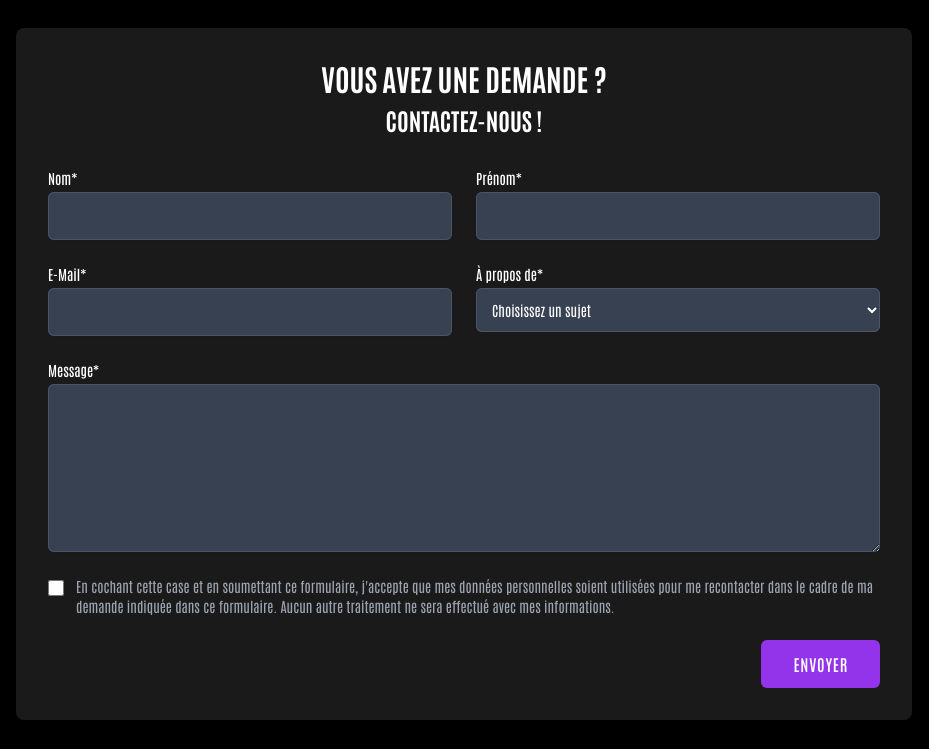
Scenario: ContactView — form validation › shows a firstName error when first name is missing
Type "Dupont" into the field with id "lastName" at [250, 216], box top-left (48, 192), bottom-right (452, 240)
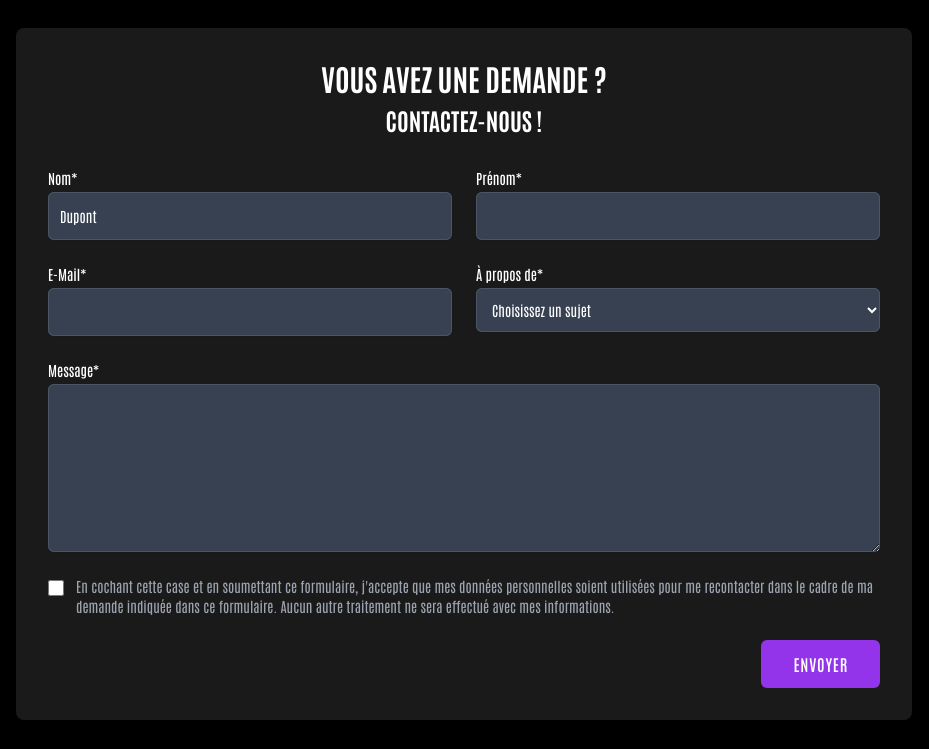
Type "marie@example.com" into the field with id "email" at [250, 312], box top-left (48, 288), bottom-right (452, 336)
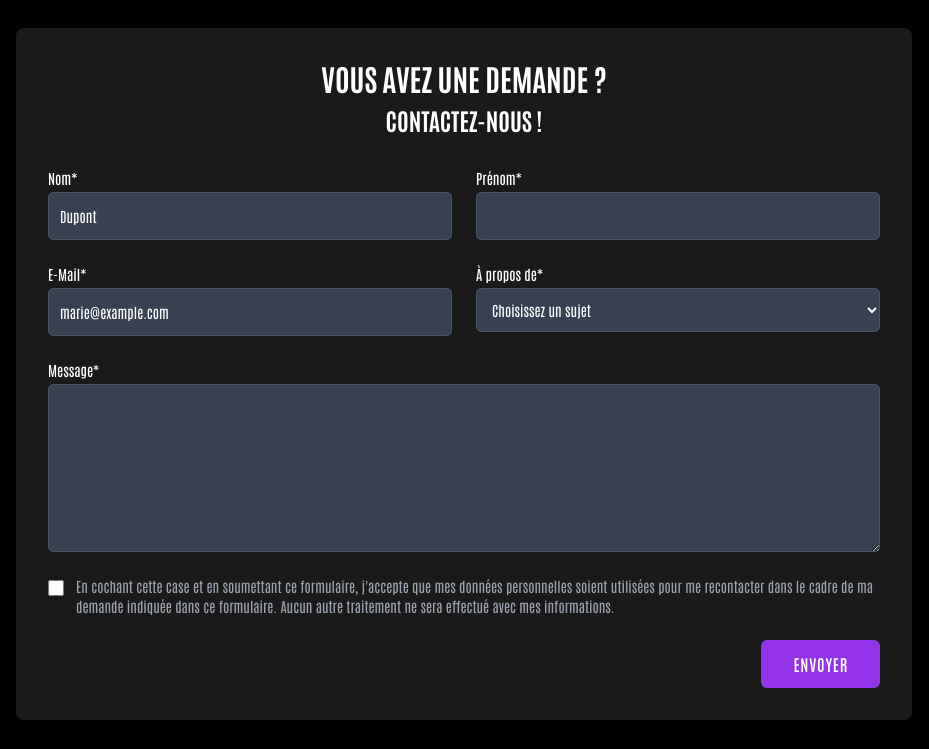
Select "Autre" in the dropdown with id "about" at [678, 310], box top-left (476, 288), bottom-right (880, 332)
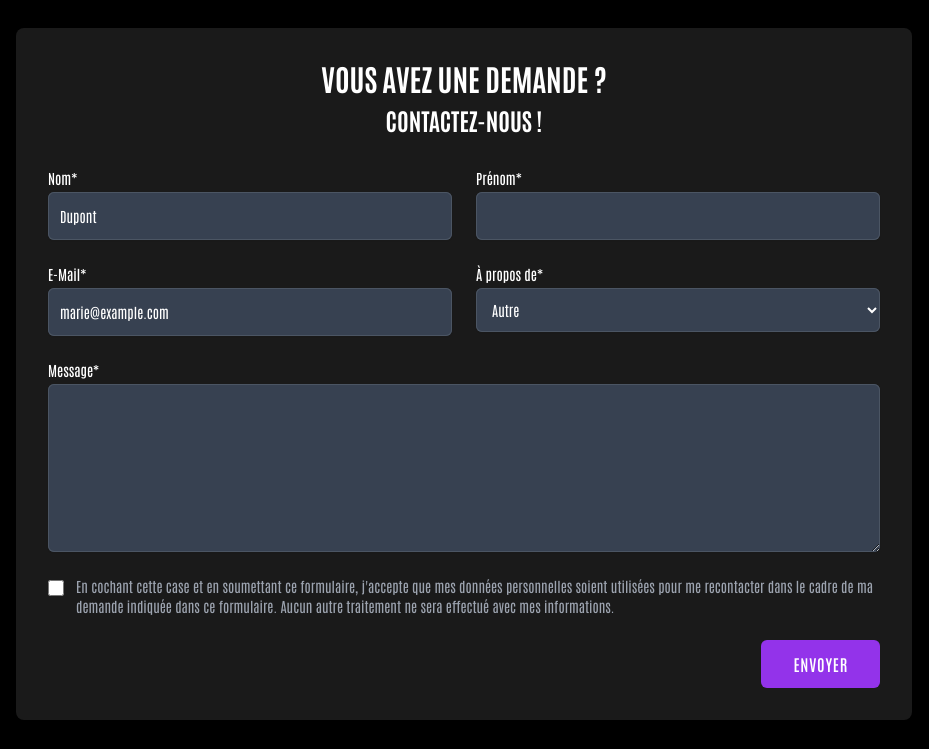
Type "Bonjour" into the text box with id "message" at [464, 468], box top-left (48, 384), bottom-right (880, 552)
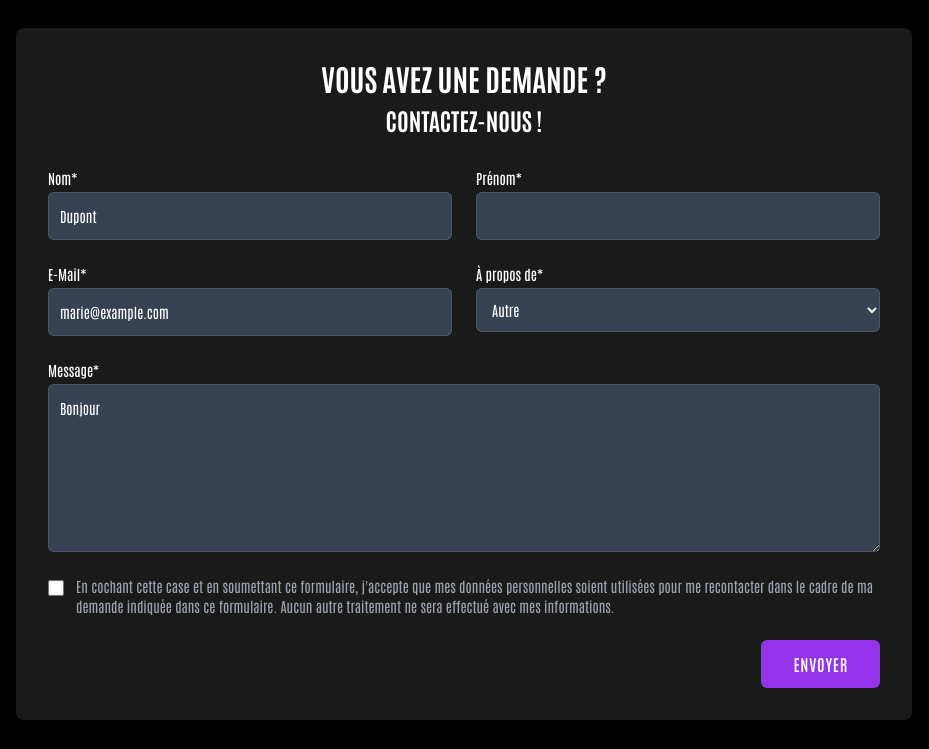
Click the checkbox with id "consent" at [56, 588], box top-left (48, 580), bottom-right (64, 596)
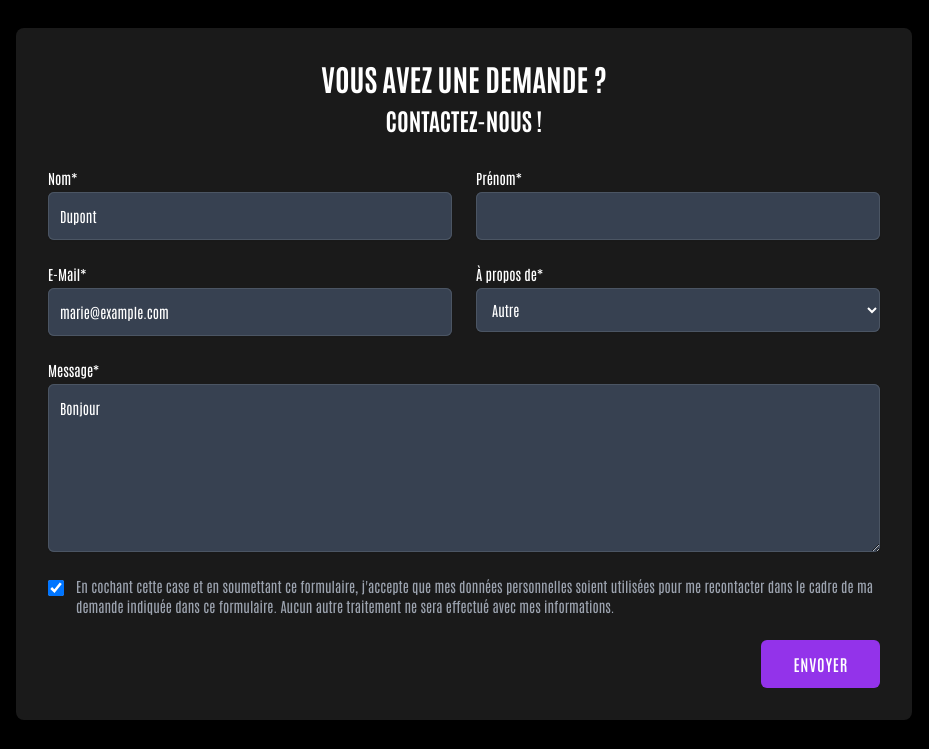
Submit the form
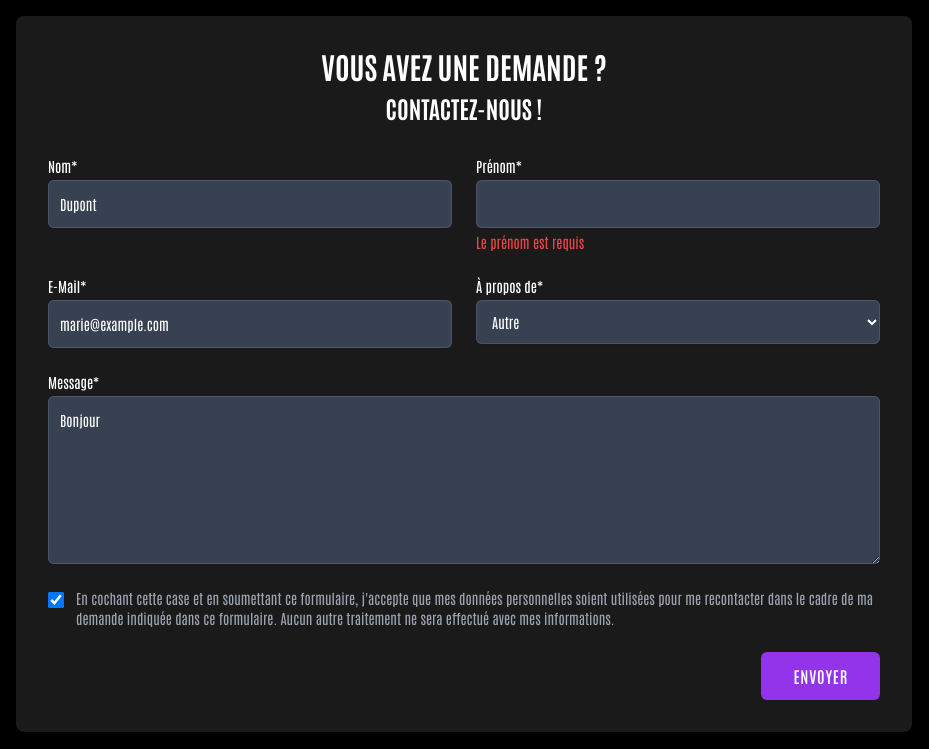
Check: the text "Le prénom est requis" is shown, box top-left (476, 233), bottom-right (584, 251)
